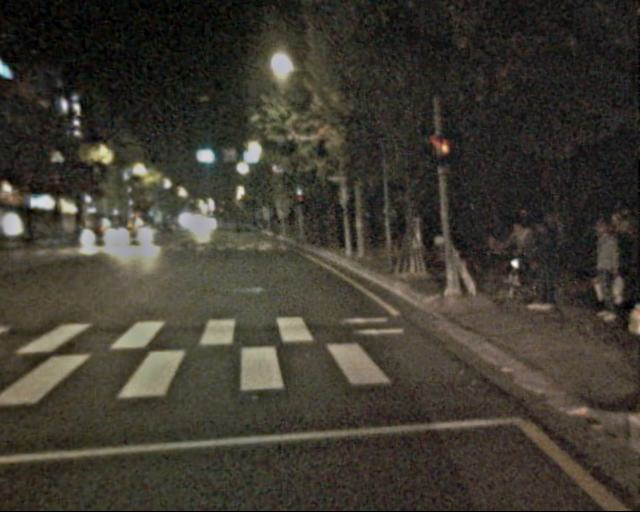person: (585, 218, 629, 324), (537, 206, 573, 295), (527, 223, 561, 309), (505, 219, 539, 302)
